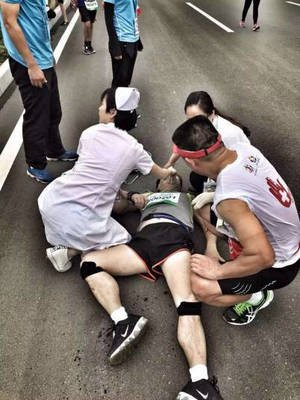fall: (81, 161, 219, 397)
